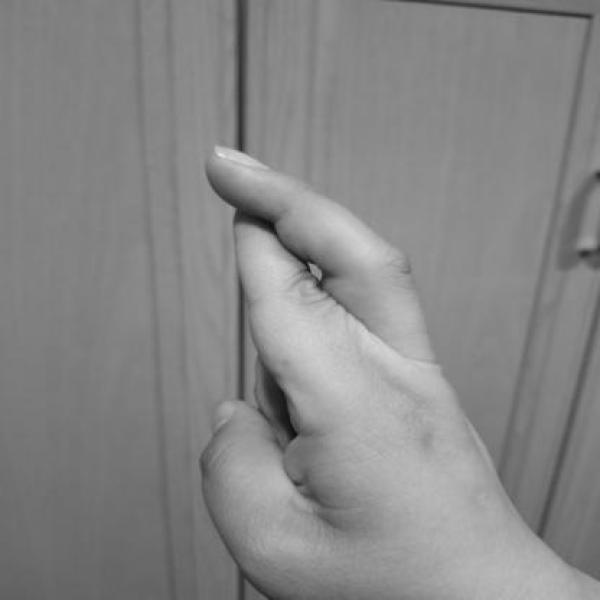R: (190, 138, 557, 598)
